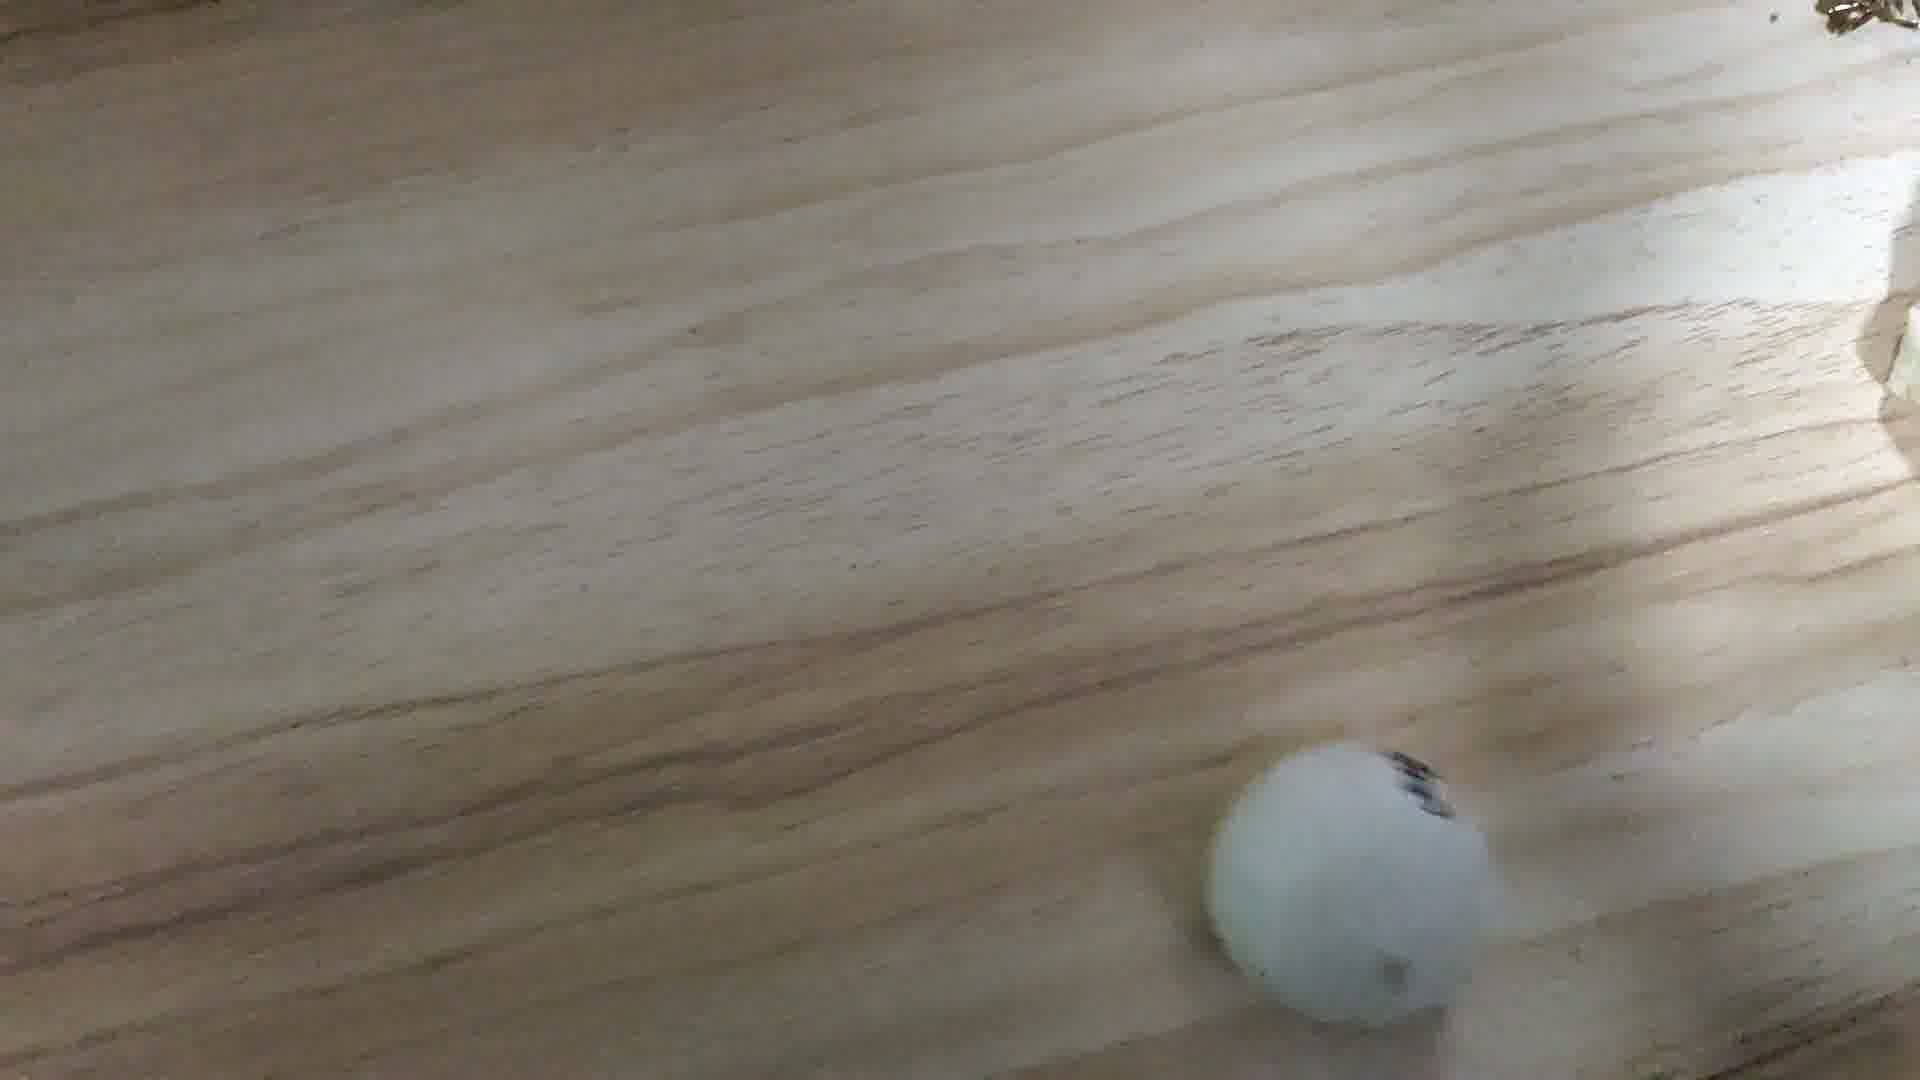Ball: (1215, 742, 1506, 1029)
